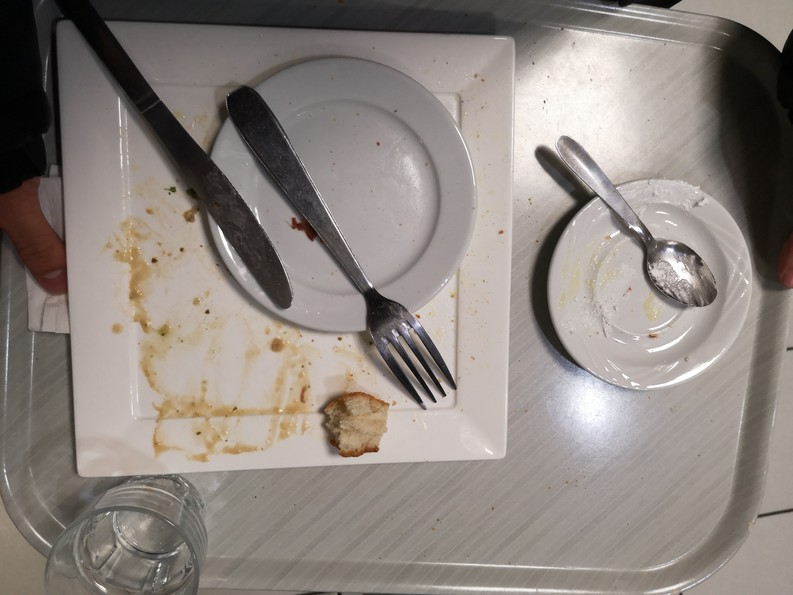cup: (42, 465, 222, 595)
cutlery: (224, 83, 463, 407), (61, 4, 294, 307), (551, 128, 724, 310)
orga: (304, 384, 401, 466)
trash: (22, 170, 90, 344)
